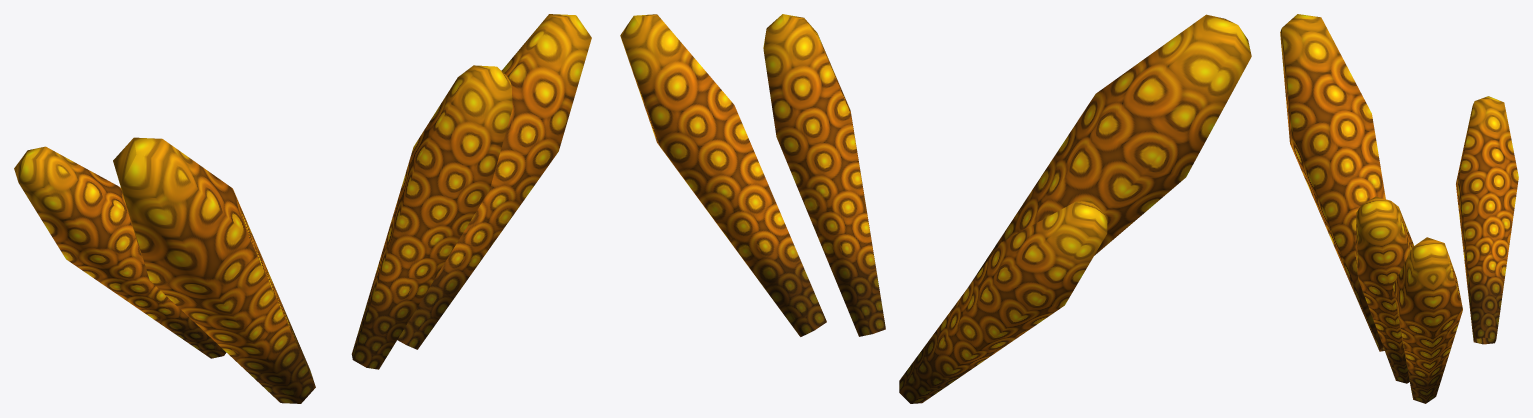
Rendered from Coral_05a.FBX.
3 renders of one model, left to right at view 1: azimuth 30°, elevation 25°; view 2: azimuth 150°, elevation 25°; view 3: azimuth 270°, elevation 25°, orthographic. The views are drawn at different scales.
Visible parts, largest first — view 1: Coral_05a; view 2: Coral_05a; view 3: Coral_05a.
Part boxes in pixels (box(x1,y1,x2,y2)): Coral_05a: box(14, 14, 591, 403); Coral_05a: box(620, 14, 1251, 403); Coral_05a: box(1280, 14, 1518, 403).
Size of the model in its own units: 49.38 by 29.93 by 24.52.
